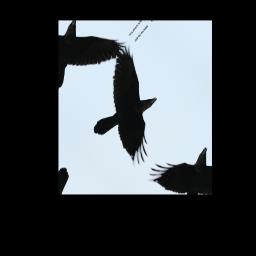Crow: (72, 44, 190, 175)
